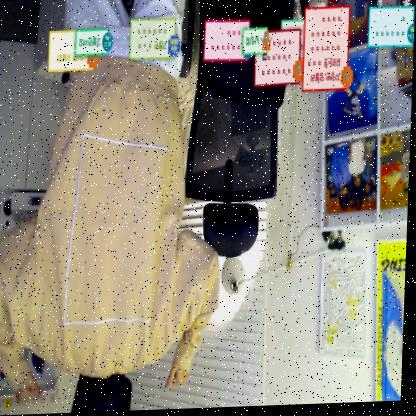streamer: (0, 0, 230, 416)
